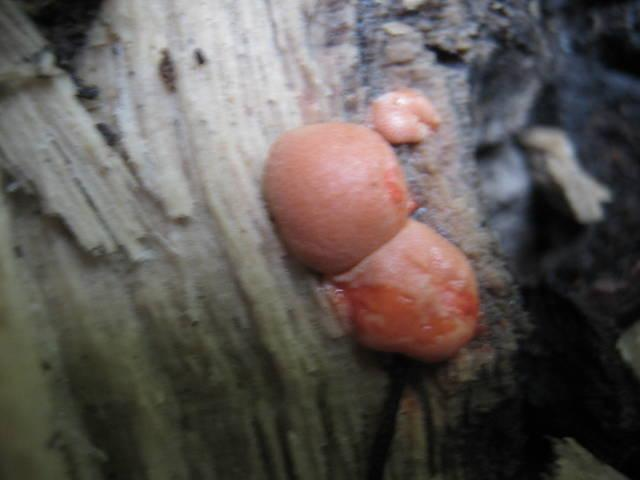poisonous_mushroom: (260, 117, 482, 362), (260, 119, 417, 274), (320, 216, 481, 362), (370, 86, 442, 145)
